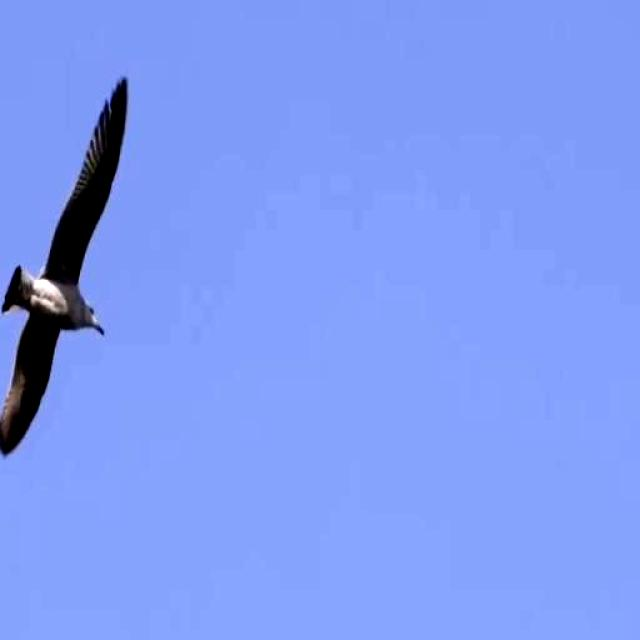airplane: (0, 51, 150, 456)
